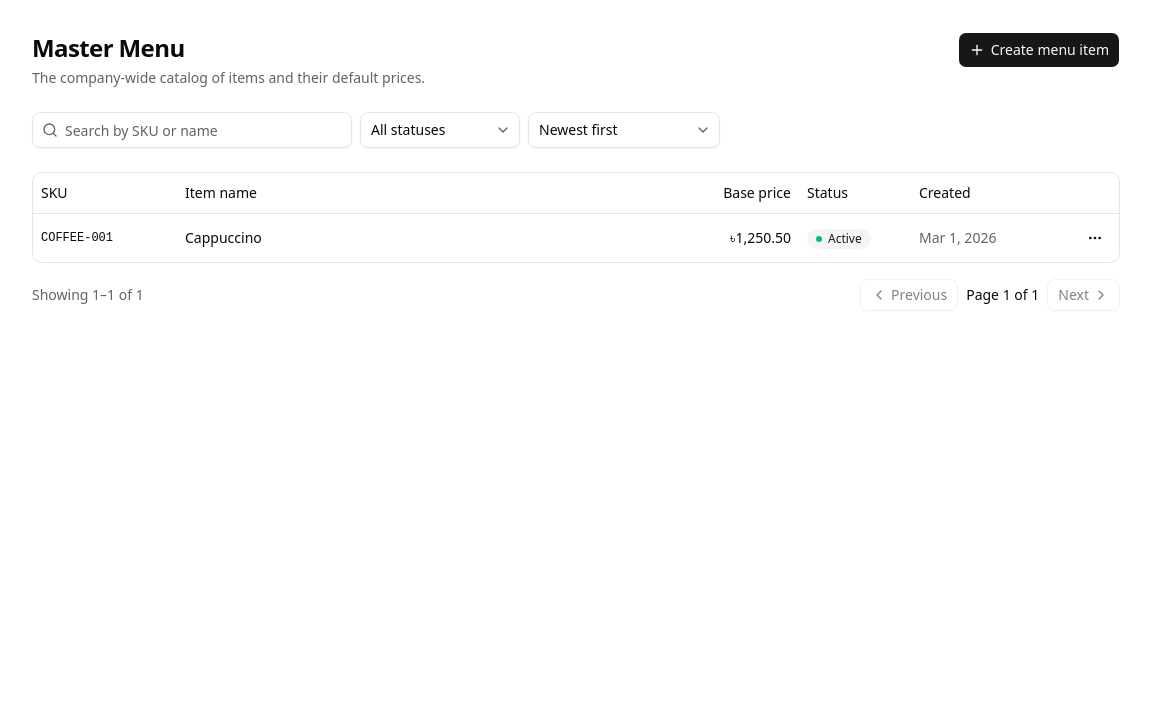
Test: Menu item forms › shows duplicate SKUs on the SKU field and keeps the values
Expected: the link "Cappuccino" is shown, [185,228,262,246]
Click the button "Create menu item".
click(1039, 50)  # box [958,32,1120,68]
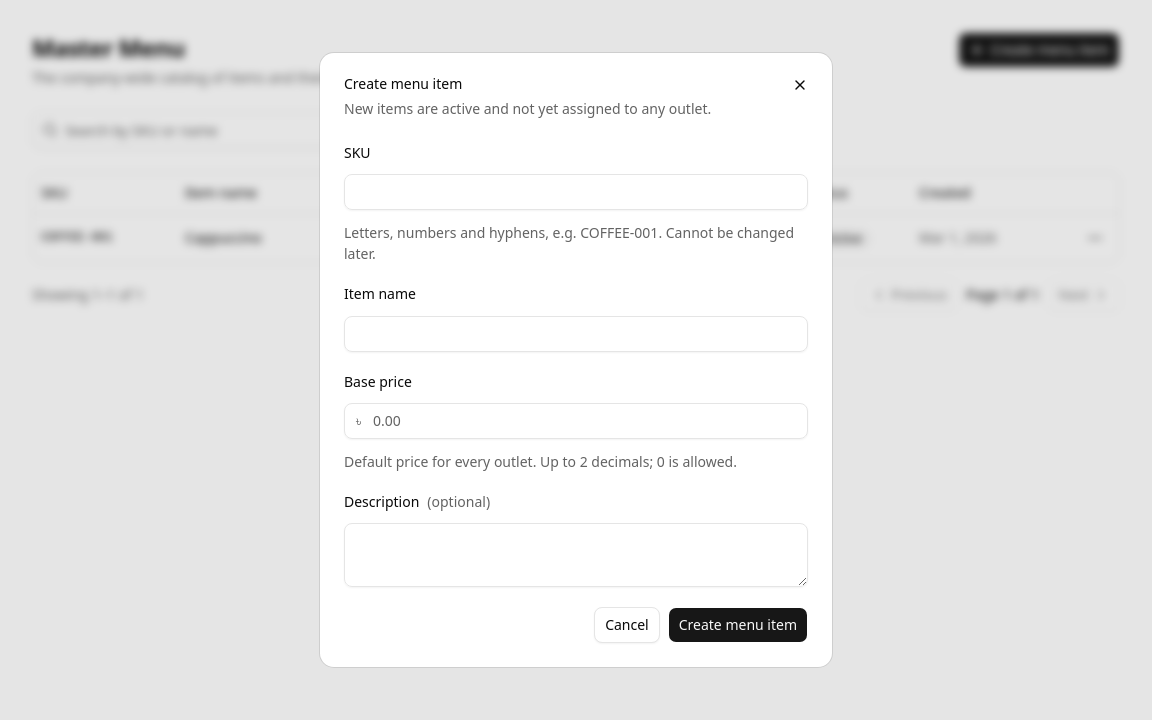
Type "COFFEE-001" into the field labelled "SKU".
click(576, 192); type("COFFEE-001")  # box [344,174,808,210]
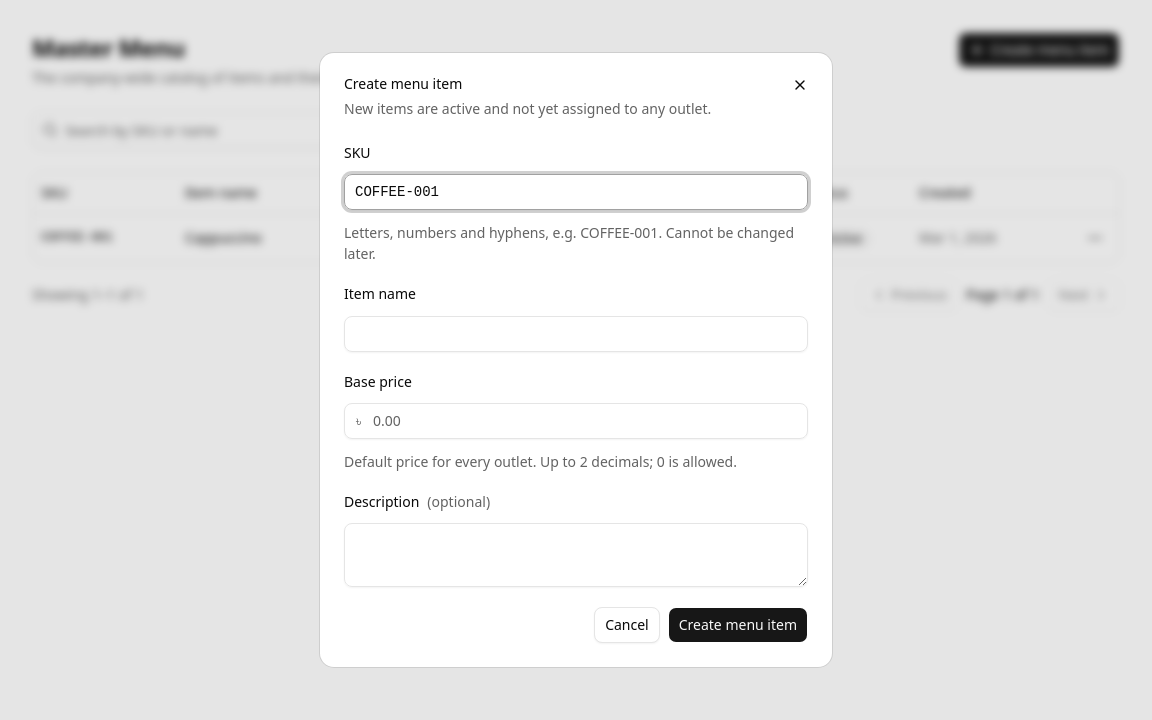
Type "Copy" into the field labelled "Item name".
click(576, 334); type("Copy")  # box [344,316,808,352]
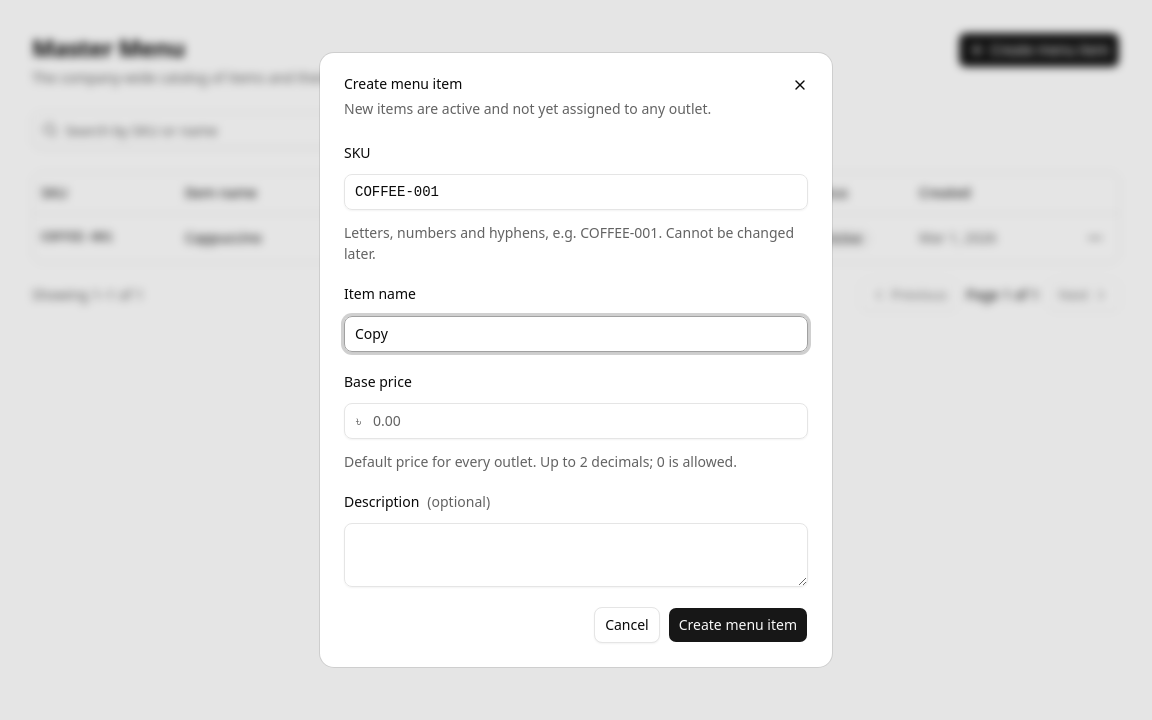
Type "99.99" into the field labelled "Base price".
click(576, 421); type("99.99")  # box [344,403,808,439]
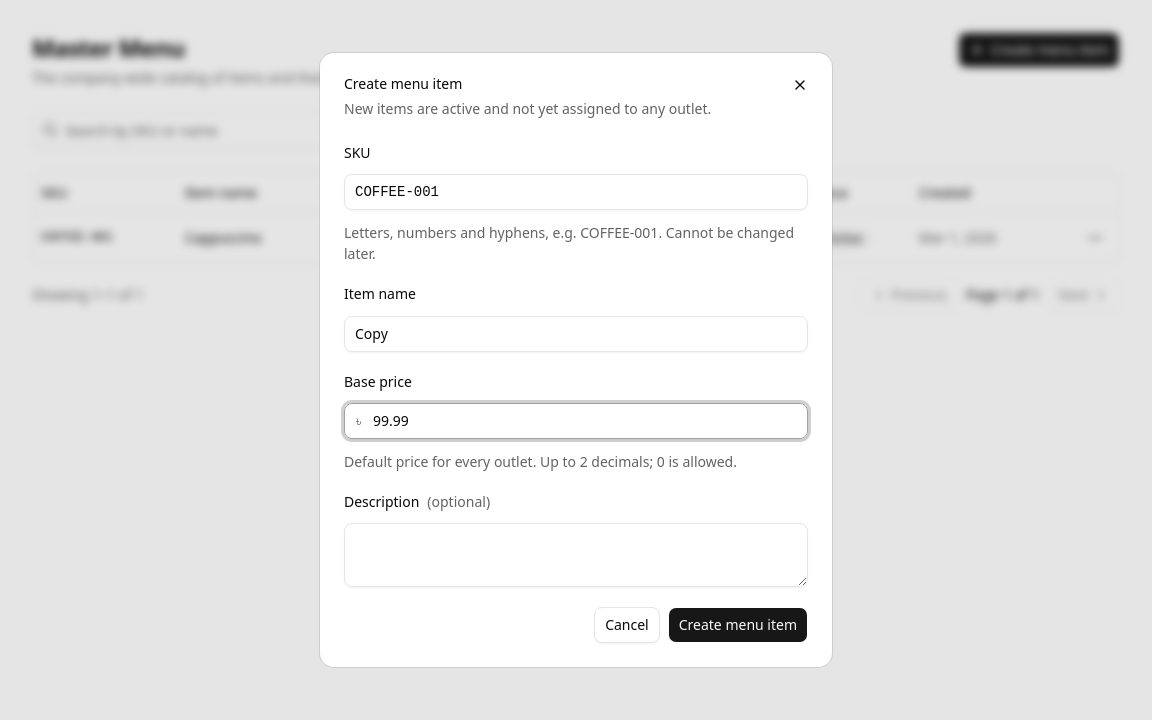
Click the button "Create menu item".
click(738, 625)  # box [668,607,808,643]
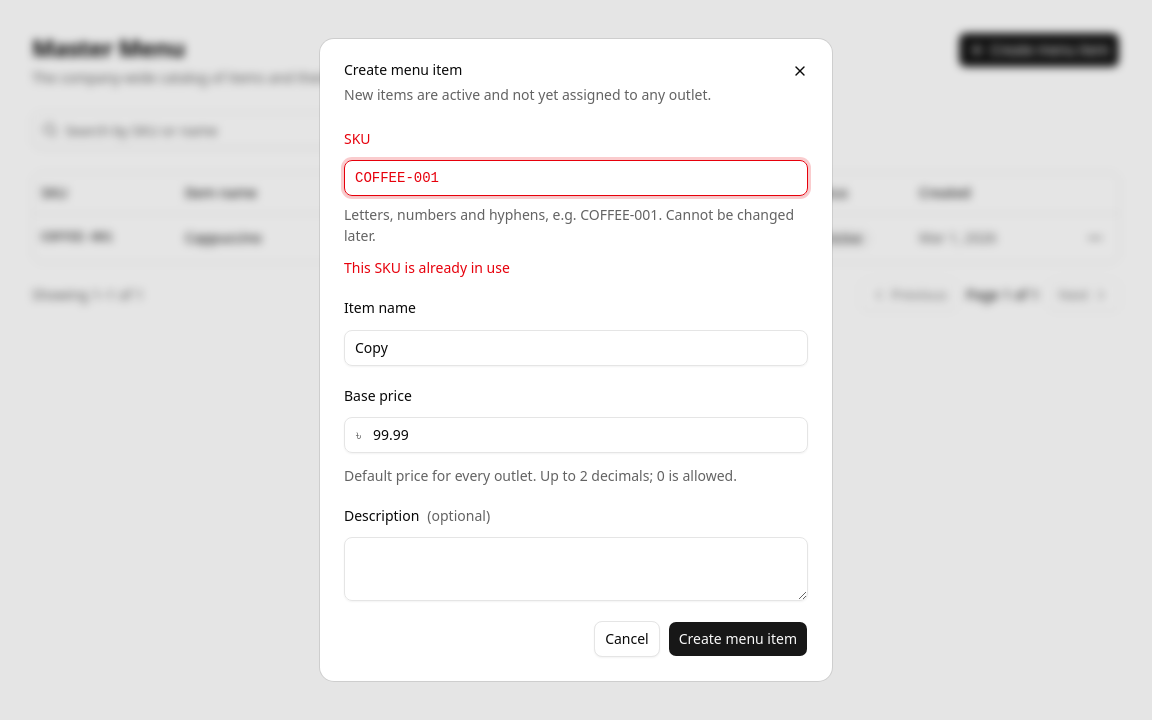
Expected: the text "This SKU is already in use" is shown, [344,258,510,277]
